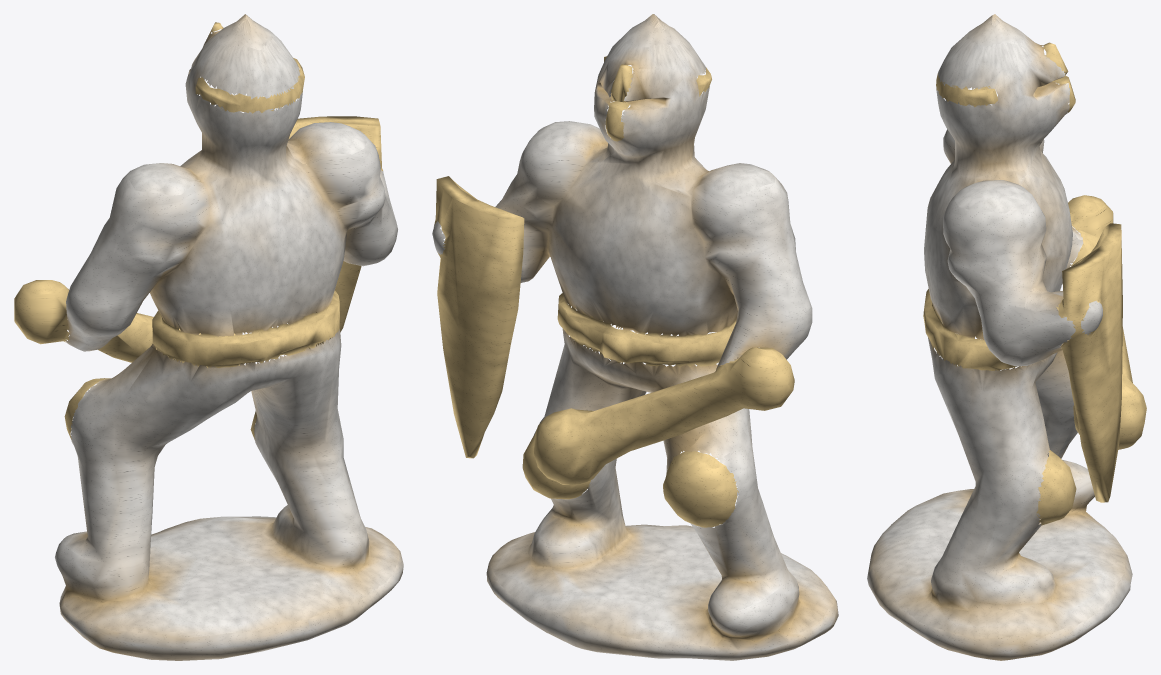
The model's file is pawn-white.glb.
3 renders of one model, left to right at view 1: azimuth 30°, elevation 25°; view 2: azimuth 150°, elevation 25°; view 3: azimuth 270°, elevation 25°, orthographic.
Visible parts, largest first — view 1: Argent Reliquary – White Pawn; view 2: Argent Reliquary – White Pawn; view 3: Argent Reliquary – White Pawn.
Boxes of the visible parts, box(x1,y1,x2,y2) form: Argent Reliquary – White Pawn: box(14, 14, 403, 660); Argent Reliquary – White Pawn: box(432, 14, 838, 660); Argent Reliquary – White Pawn: box(867, 14, 1146, 660).
Size of the model in its own units: 0.608 by 0.96 by 0.4159.
Materials: 2 (2 with a texture image).
